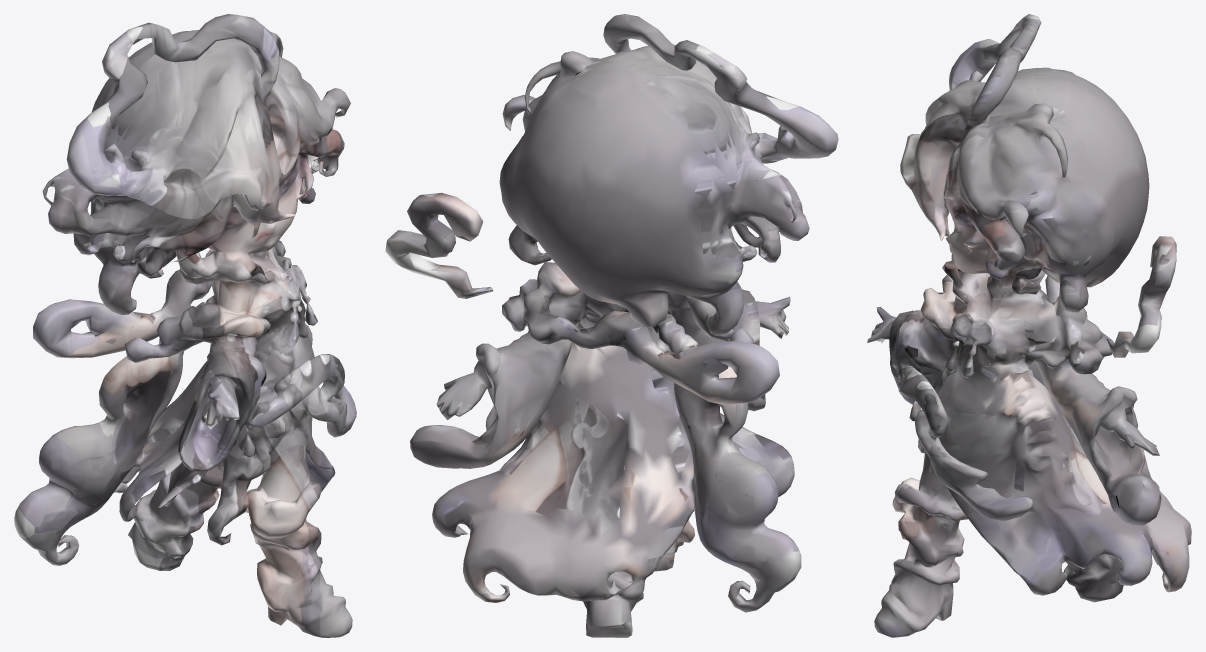
The model's file is fog_roblox.glb.
The picture shows the model from 3 angles, left to right: view 1: azimuth 30°, elevation 25°; view 2: azimuth 150°, elevation 25°; view 3: azimuth 270°, elevation 25°; orthographic projection. The views are drawn at different scales.
Visible parts, largest first — view 1: WeatherFog_Part003, WeatherFog_Part002, WeatherFog_Eyes; view 2: WeatherFog_Part002, WeatherFog_Part003; view 3: WeatherFog_Part002, WeatherFog_Part003, WeatherFog_Eyes.
Part boxes in pixels (x1=…): WeatherFog_Part003: x1=14, y1=14, x2=356, y2=637; WeatherFog_Part002: x1=16, y1=14, x2=351, y2=619; WeatherFog_Eyes: x1=224, y1=173, x2=290, y2=265; WeatherFog_Part002: x1=385, y1=14, x2=828, y2=637; WeatherFog_Part003: x1=387, y1=14, x2=838, y2=633; WeatherFog_Part002: x1=886, y1=17, x2=1191, y2=635; WeatherFog_Part003: x1=867, y1=14, x2=1181, y2=637; WeatherFog_Eyes: x1=901, y1=174, x2=958, y2=266.
Bounding box in the file's own units: 2.31 × 3.57 × 1.88.
2 materials, 2 textured.
